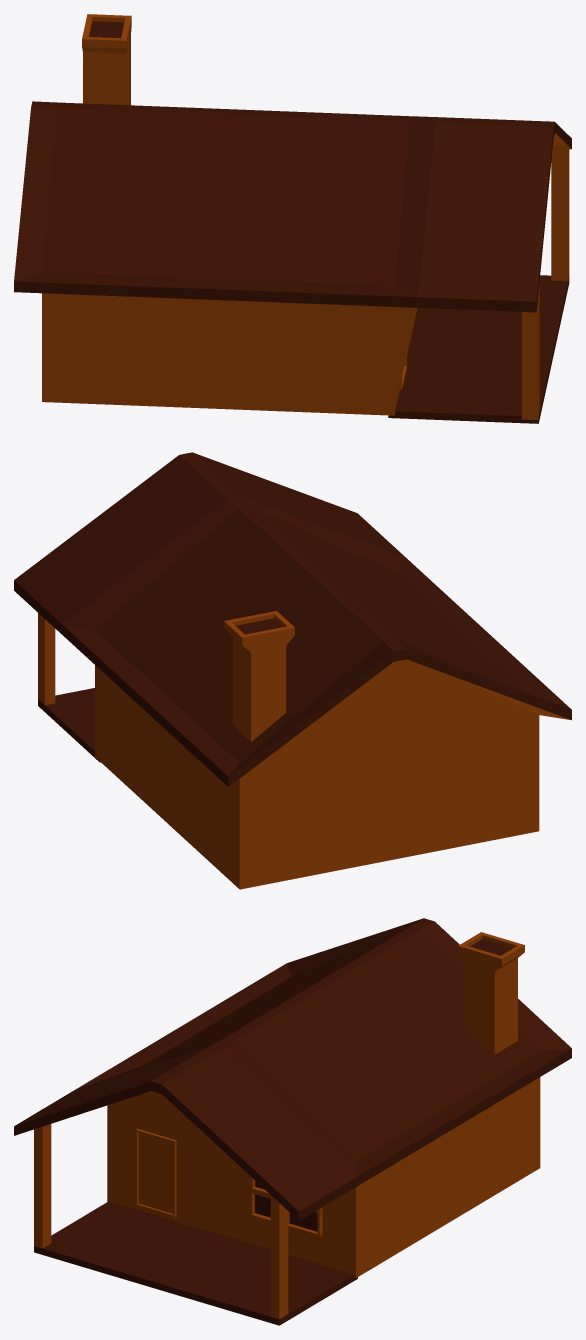
File: lowpoly_3.fbx
3 views of the same model, one above another, from view 1: azimuth 30°, elevation 25°; view 2: azimuth 150°, elevation 25°; view 3: azimuth 270°, elevation 25° (orthographic). The views are drawn at different scales.
Parts seen in each view (by area): view 1: Cube, Cube.001; view 2: Cube, Cube.001; view 3: Cube, Cube.001.
Part boxes in pixels (left/top/right/bottom): Cube: left=14, top=14, right=571, bottom=420; Cube.001: left=388, top=275, right=569, bottom=423; Cube: left=14, top=452, right=571, bottom=889; Cube.001: left=38, top=688, right=100, bottom=762; Cube: left=14, top=918, right=571, bottom=1319; Cube.001: left=34, top=1201, right=357, bottom=1325.
Bounding box in the file's own units: 1381 × 593 × 1311.
